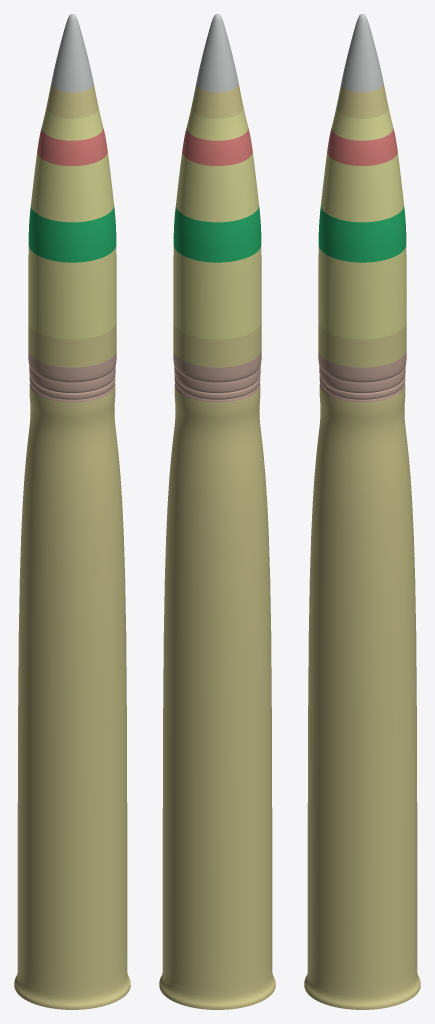
File: Bullet.fbx
The picture shows the model from 3 angles, left to right: view 1: azimuth 90°, elevation 25°; view 2: azimuth 150°, elevation 25°; view 3: azimuth 270°, elevation 25°; orthographic projection.
Parts seen in each view (by area): view 1: Circle; view 2: Circle; view 3: Circle.
Part boxes in pixels (box(x1,y1,x2,y2)): Circle: box(14, 14, 130, 1009); Circle: box(159, 14, 275, 1009); Circle: box(304, 14, 420, 1009).
Bounding box in the file's own units: 0.5821 × 5.35 × 0.5821.
